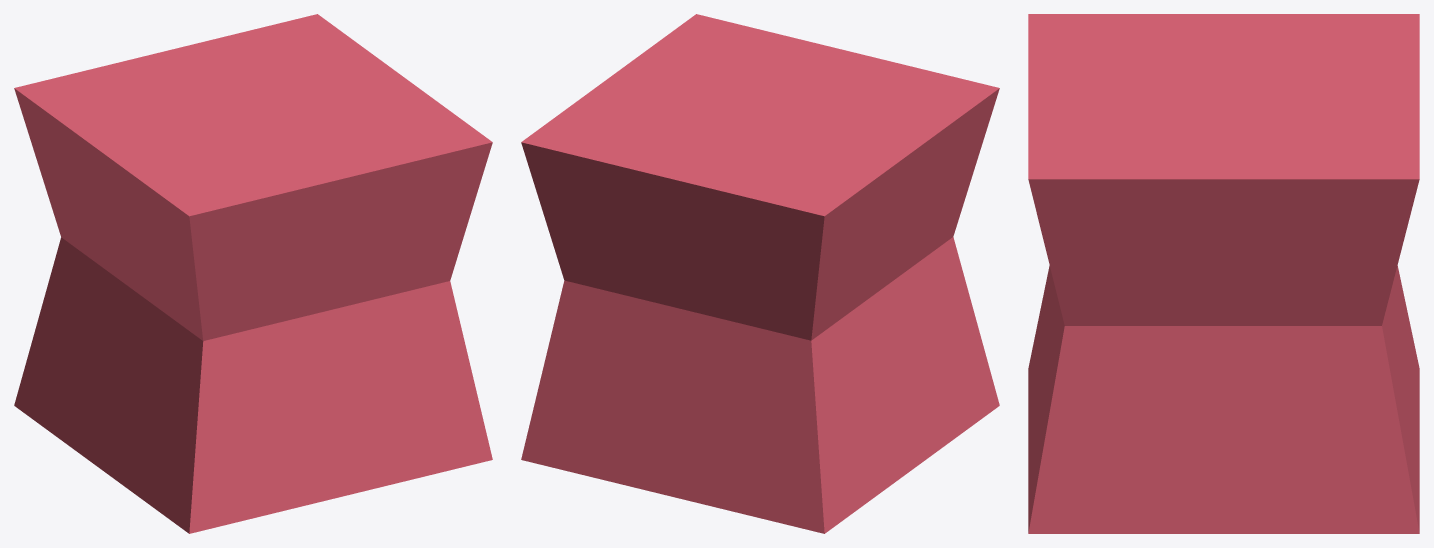
Rendered from Player_13.fbx.
3 renders of one model, left to right at view 1: azimuth 30°, elevation 25°; view 2: azimuth 150°, elevation 25°; view 3: azimuth 270°, elevation 25°, orthographic. The views are drawn at different scales.
Visible parts, largest first — view 1: Cube; view 2: Cube; view 3: Cube.
Part boxes in pixels (x1=…): Cube: x1=14, y1=14, x2=492, y2=533; Cube: x1=521, y1=14, x2=999, y2=533; Cube: x1=1028, y1=14, x2=1419, y2=533.
Bounding box in the file's own units: 200 × 200 × 200.
